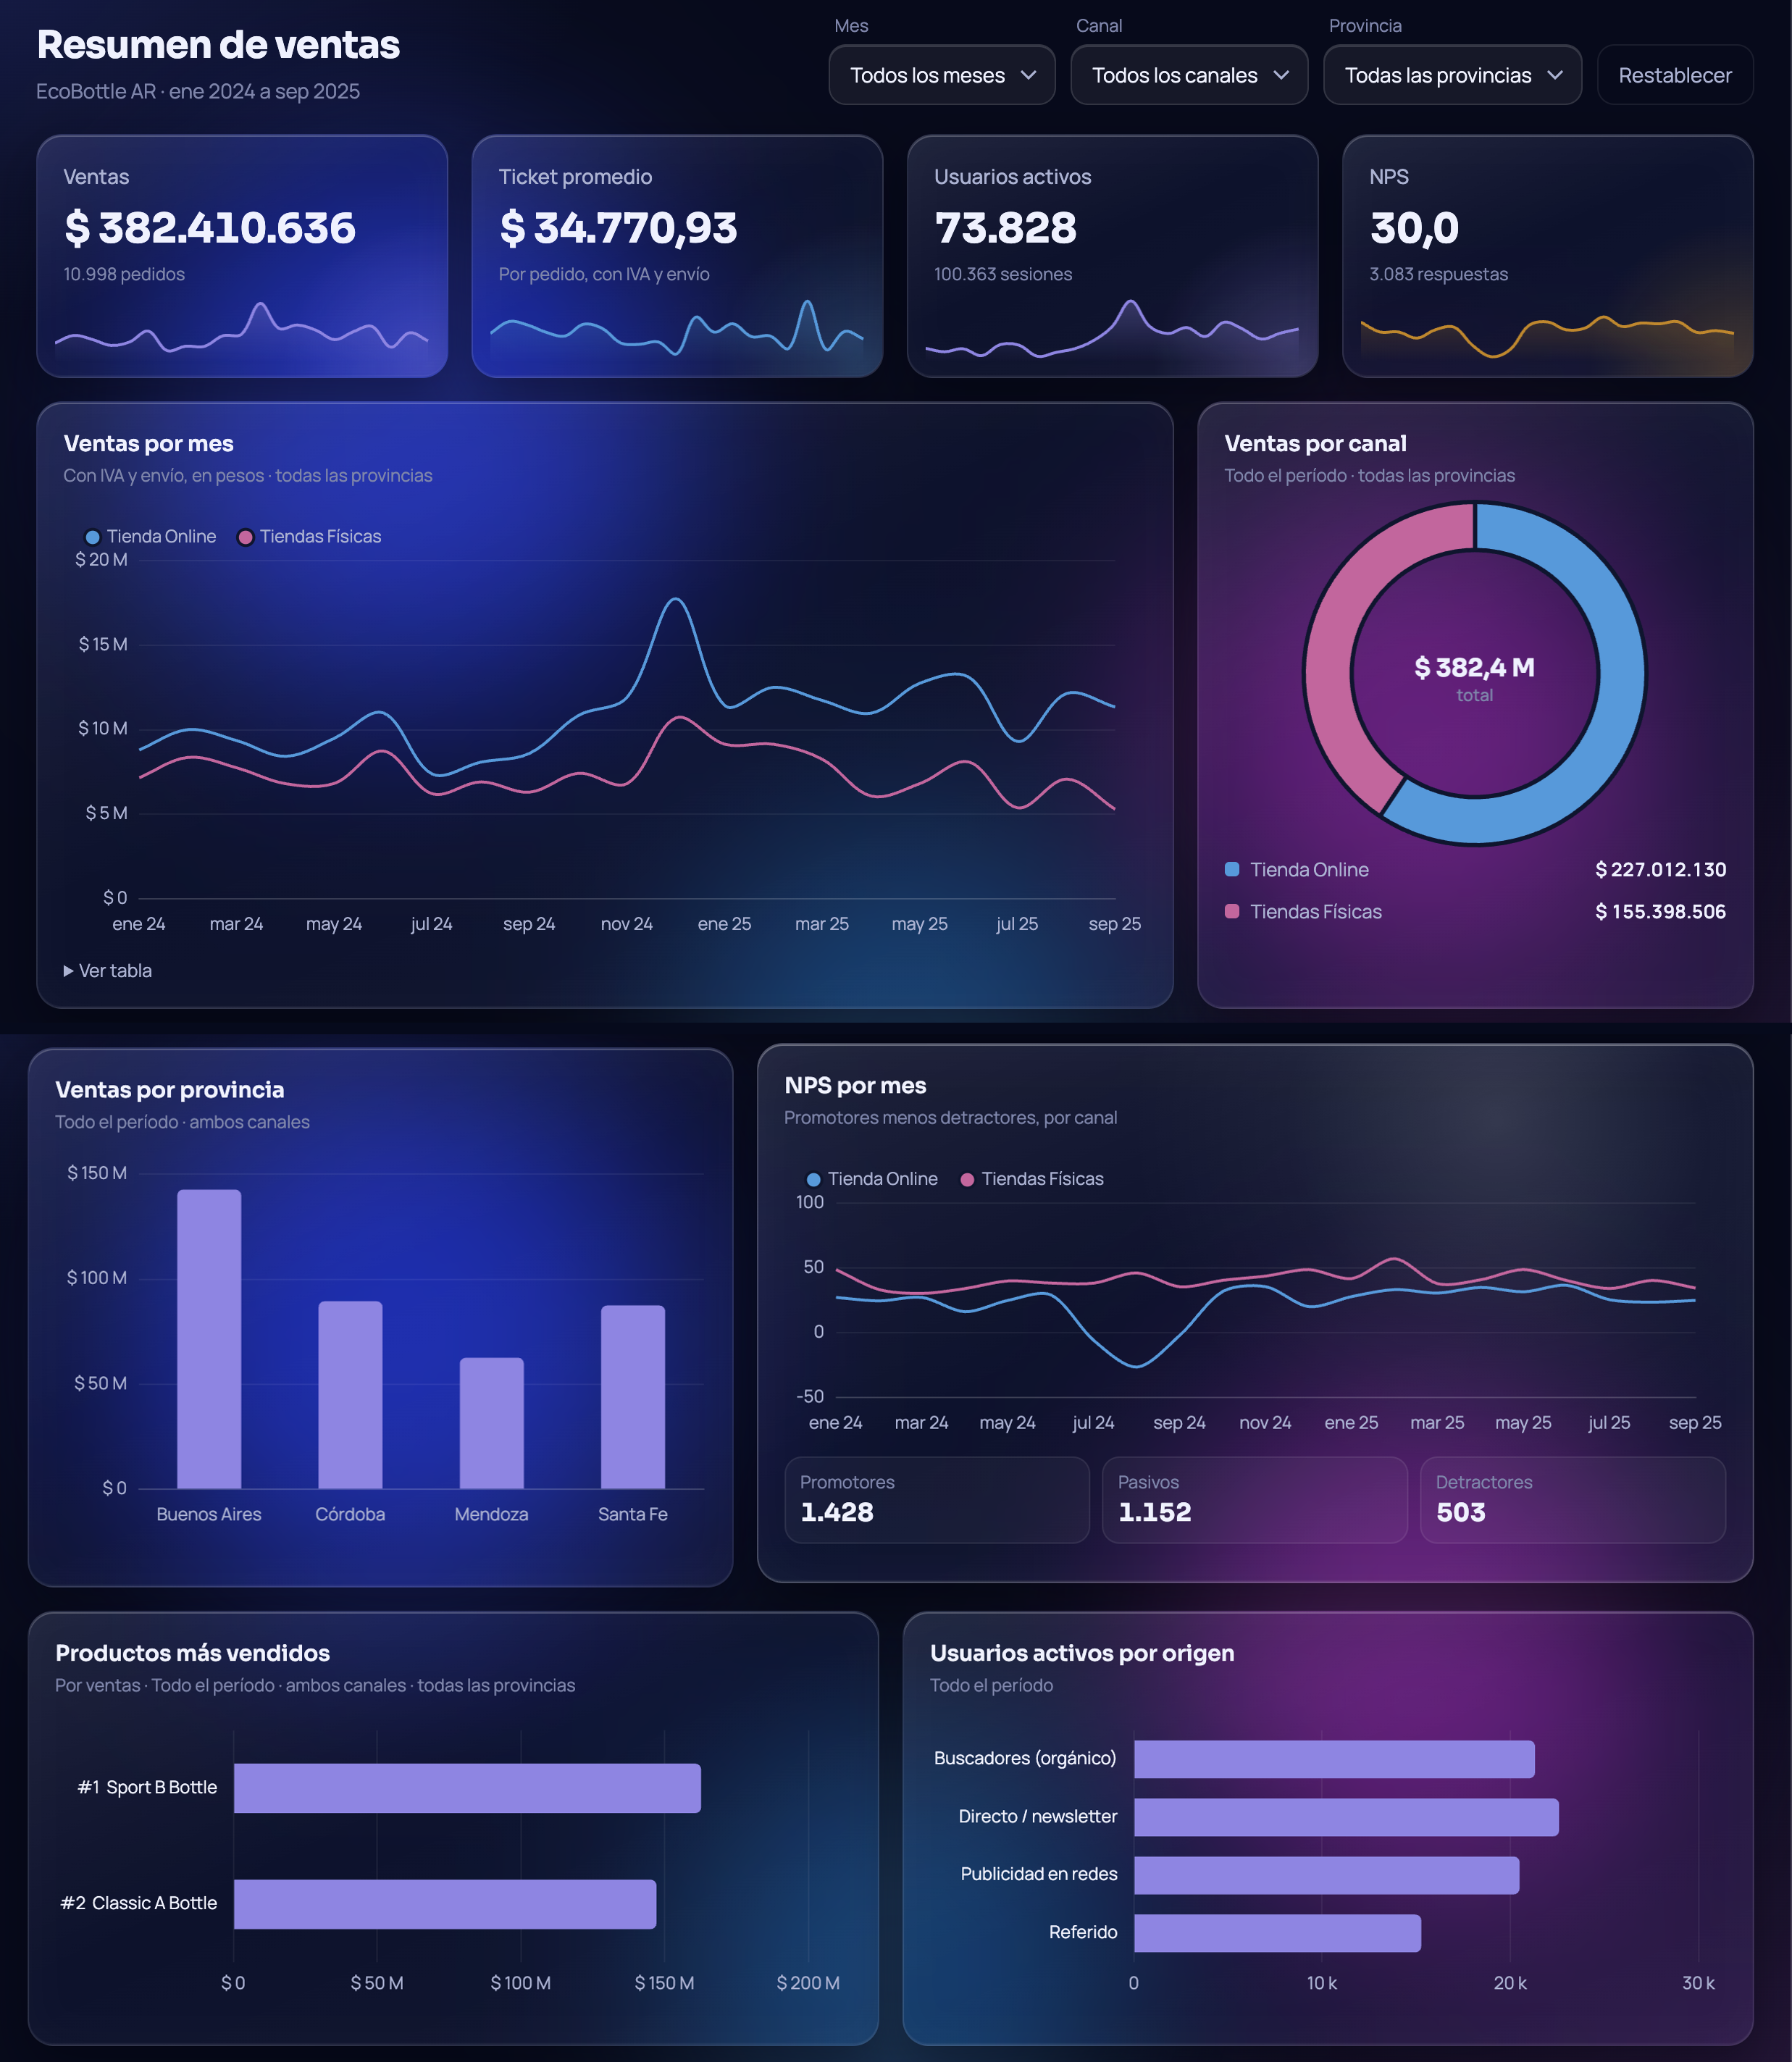

The page's visual inventory and layout, read from the dashboard file:
{"tool":"powerbi","page":{"name":"Página 1","canvas":[1920,1080],"ordinal":0},"visuals":[{"type":"cardVisual","title":"VENTAS","fields":{"Data":["fact_sales_order.Ventas ($M)"]},"box":[42.7,167.1,337.9,128.1],"z":1},{"type":"lineChart","title":"Ventas por Mes","fields":{"Category":["dim_date.year_month"],"Y":["fact_sales_order.Ventas"]},"box":[42.7,363.9,648,286],"z":2},{"type":"barChart","title":"Ventas por Provincia","fields":{"Category":["dim_province.name"],"Y":["fact_sales_order.Ventas"]},"box":[729.7,363.9,570.1,286],"z":3},{"type":"lineChart","title":"Evolución del NPS","fields":{"Category":["dim_date.year_month"],"Y":["fact_nps.NPS"]},"box":[42.7,714.9,636.9,258.1],"z":4},{"type":"lineChart","title":"Usuarios activos por mes","fields":{"Category":["dim_date.year_month"],"Y":["fact_web_session.Usuarios Activos"]},"box":[727.9,714.9,570.1,273],"z":5},{"type":"cardVisual","fields":{"Data":["fact_sales_order.Ticket Promedio ($K)"]},"box":[486.5,167.1,337.9,128.1],"z":6},{"type":"cardVisual","fields":{"Data":["fact_web_session.Usuarios Activos (K)"]},"box":[960,167.1,337.9,128.1],"z":7},{"type":"cardVisual","fields":{"Data":["fact_nps.NPS (texto)"]},"box":[1413.1,167.1,337.9,128.1],"z":8},{"type":"tableEx","title":"Ranking Mensual por Producto","fields":{"Values":["dim_date.year_month","dim_product.name","fact_sales_item.Ventas Items","fact_sales_item.Unidades Vendidas","fact_sales_item.Ranking Producto"]},"box":[1318.4,363.9,583.1,642.5],"z":10},{"type":"slicer","fields":{"Values":["dim_province.name"]},"box":[621.3,25.5,209.8,65],"z":11},{"type":"slicer","fields":{"Values":["dim_date.full_date"]},"box":[857.4,25.5,273,154],"z":12},{"type":"slicer","fields":{"Values":["dim_channel.name"]},"box":[1129.8,29.8,323.1,76.1],"z":13},{"type":"slicer","fields":{"Values":["dim_product.name"]},"box":[1519.1,25.5,337.9,78],"z":14}]}

Visuals, with their boxes on the page's 1920x1080 design canvas (x1, y1, x2, y2). These are canvas units, not pixel positions in the 1792x2062 screenshot, which may show the page scaled, cropped or inside an application window:
"VENTAS" cardVisual: x1=43 y1=167 x2=381 y2=295
"Ventas por Mes" lineChart: x1=43 y1=364 x2=691 y2=650
"Ventas por Provincia" barChart: x1=730 y1=364 x2=1300 y2=650
"Evolución del NPS" lineChart: x1=43 y1=715 x2=680 y2=973
"Usuarios activos por mes" lineChart: x1=728 y1=715 x2=1298 y2=988
cardVisual - fact_sales_order.Ticket Promedio ($K): x1=486 y1=167 x2=824 y2=295
cardVisual - fact_web_session.Usuarios Activos (K): x1=960 y1=167 x2=1298 y2=295
cardVisual - fact_nps.NPS (texto): x1=1413 y1=167 x2=1751 y2=295
"Ranking Mensual por Producto" tableEx: x1=1318 y1=364 x2=1902 y2=1006
slicer - dim_province.name: x1=621 y1=26 x2=831 y2=90
slicer - dim_date.full_date: x1=857 y1=26 x2=1130 y2=180
slicer - dim_channel.name: x1=1130 y1=30 x2=1453 y2=106
slicer - dim_product.name: x1=1519 y1=26 x2=1857 y2=104
